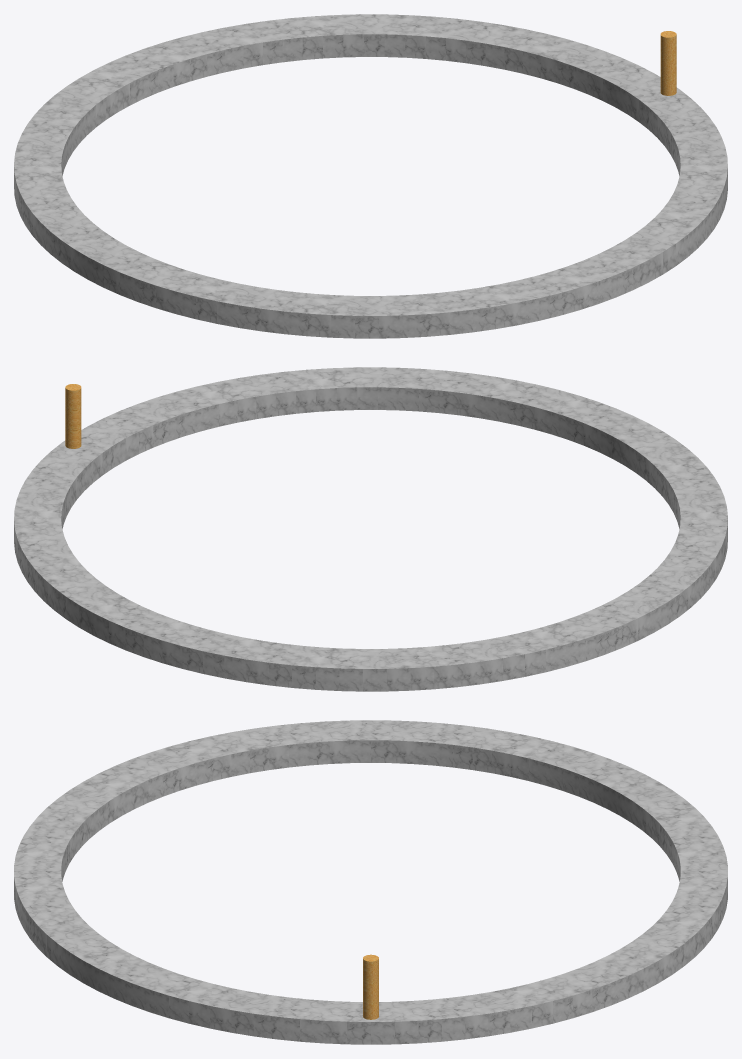
The model's file is Ring_stick.glb.
3 renders of one model, top to bottom at view 1: azimuth 30°, elevation 25°; view 2: azimuth 150°, elevation 25°; view 3: azimuth 270°, elevation 25°, orthographic.
Parts seen in each view (by area): view 1: Component#1, Component#2; view 2: Component#1, Component#2; view 3: Component#1, Component#2.
Boxes of the visible parts, x1=… form: Component#1: x1=14, y1=14, x2=727, y2=338; Component#2: x1=660, y1=31, x2=676, y2=95; Component#1: x1=14, y1=367, x2=727, y2=691; Component#2: x1=65, y1=384, x2=81, y2=448; Component#1: x1=14, y1=720, x2=727, y2=1044; Component#2: x1=363, y1=954, x2=378, y2=1019.
Bounding box in the file's own units: 8 × 1 × 8.
Materials: 286 (286 with a texture image).
